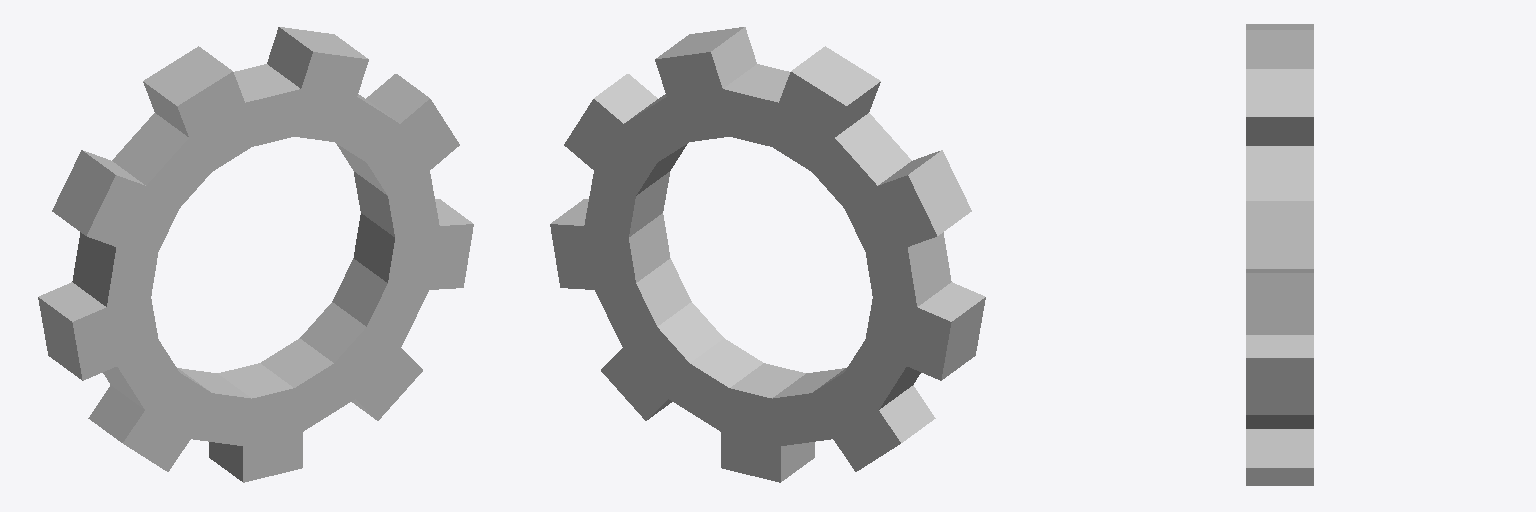
The model's file is Cog_LP.obj.
The picture shows the model from 3 angles: view 1: azimuth 30°, elevation 25°; view 2: azimuth 150°, elevation 25°; view 3: azimuth 270°, elevation 25°; orthographic projection.
Visible parts, largest first — view 1: pGear1; view 2: pGear1; view 3: pGear1.
Boxes of the visible parts, x1,y1,x2,y2 form: pGear1: [38, 27, 473, 482]; pGear1: [550, 27, 985, 482]; pGear1: [1246, 24, 1313, 485].
Bounding box in the file's own units: 4.73 × 4.65 × 0.7019.